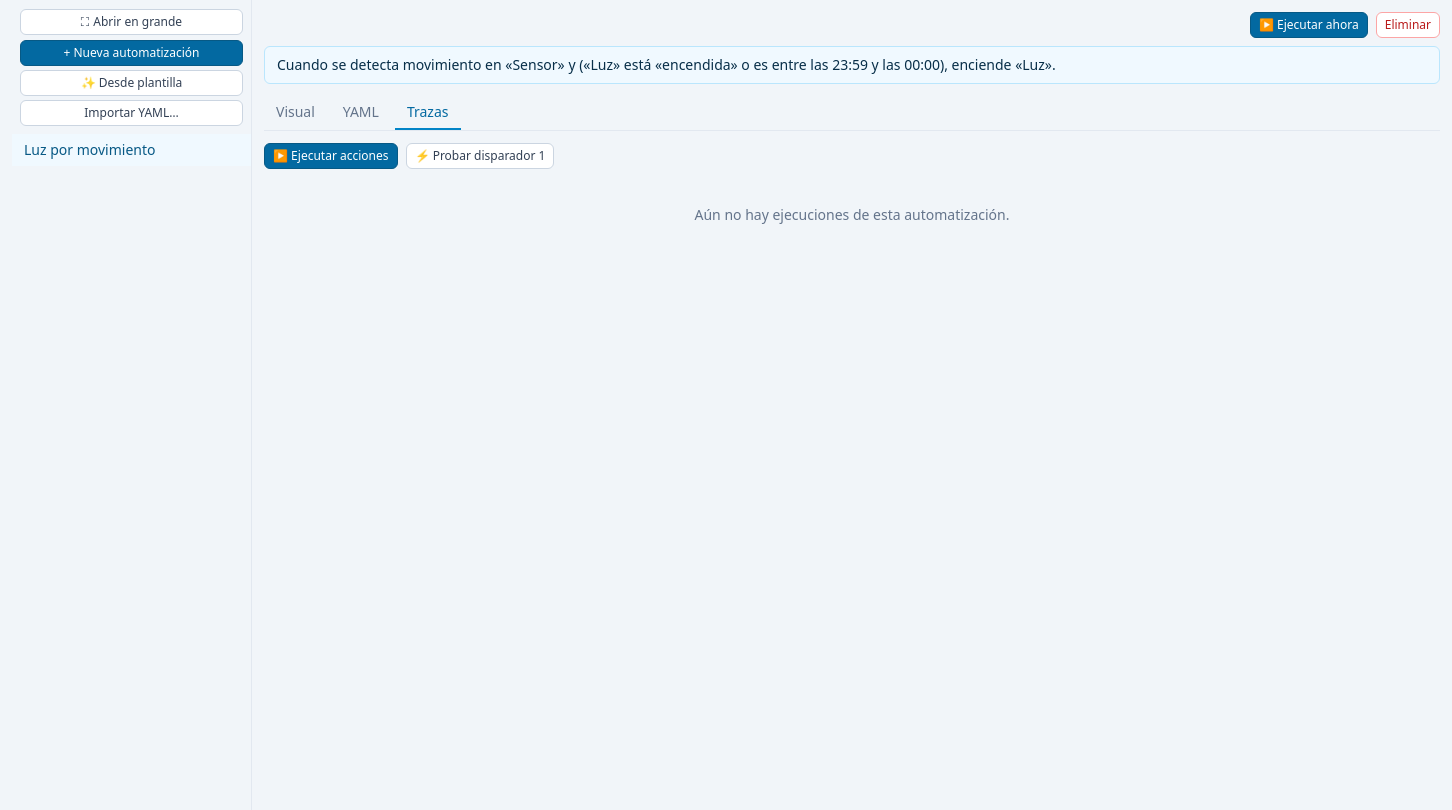
Test: Trazas de automatizaciones › pinta las condiciones anidadas en árbol
Click the button "⚡ Probar disparador 1" at [480, 156], box 406,143 -> 554,169
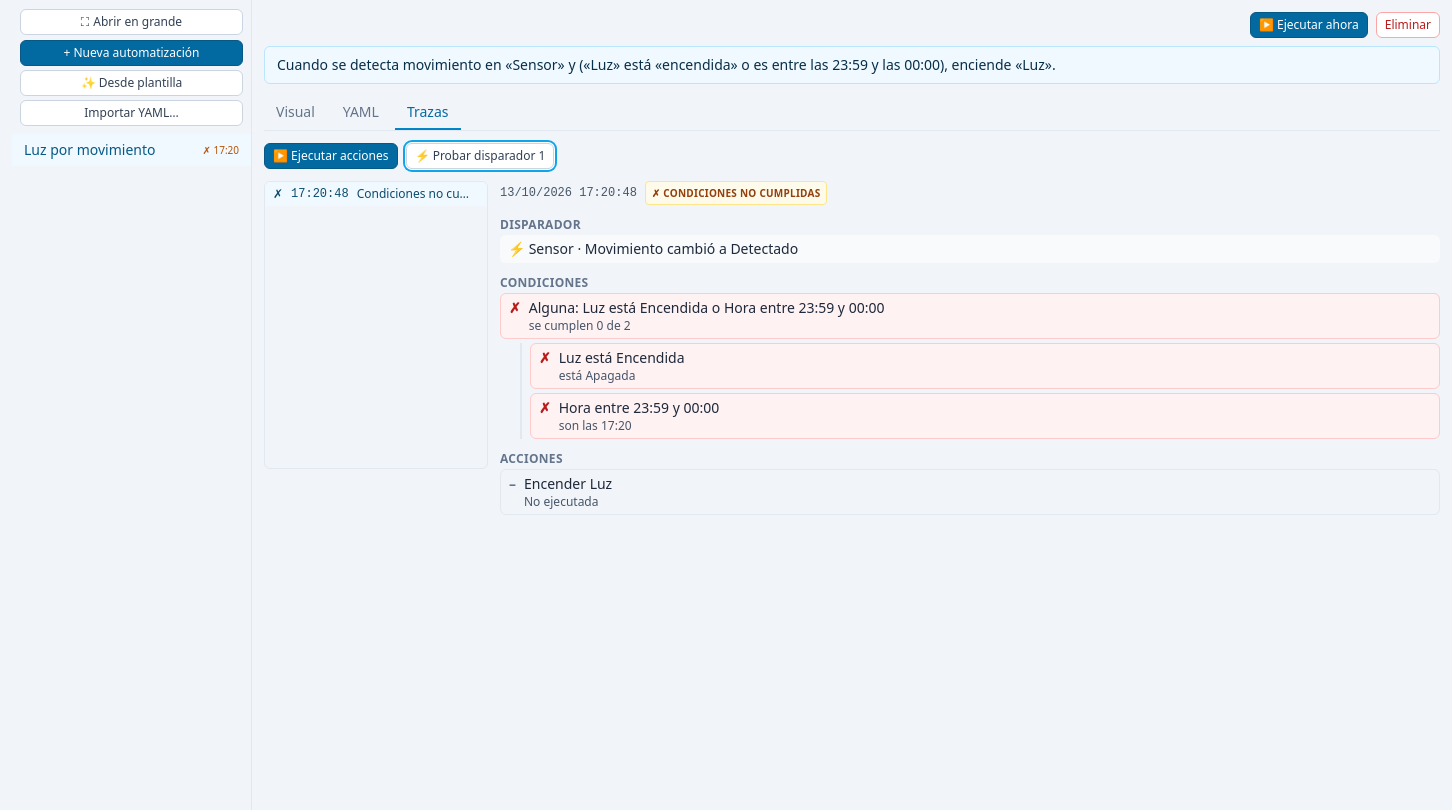
Now the picture named "No se cumple" is shown, box 539,348 -> 551,368
